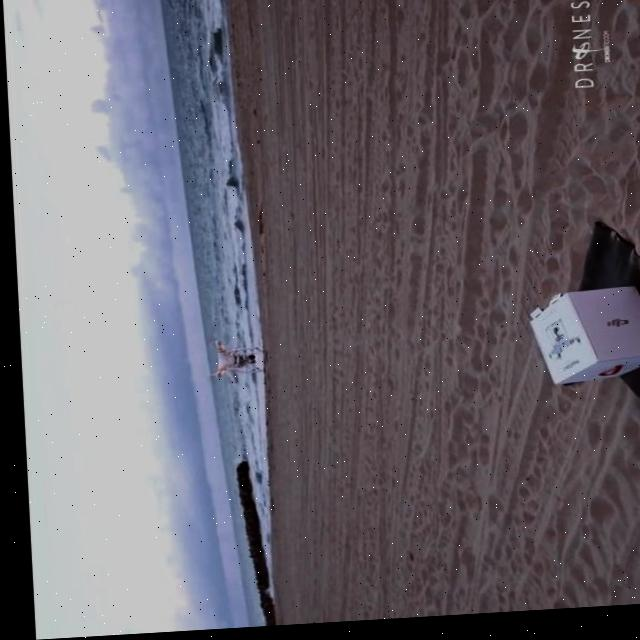drone: (202, 341, 261, 391)
